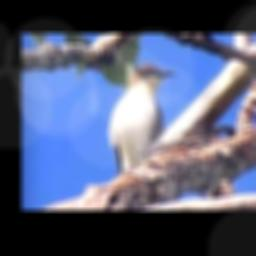Cuckoo: (108, 63, 178, 173)
